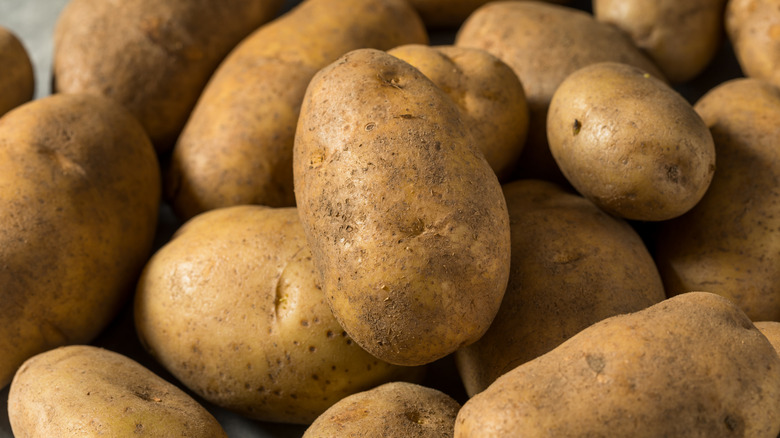potato: (284, 23, 504, 397)
